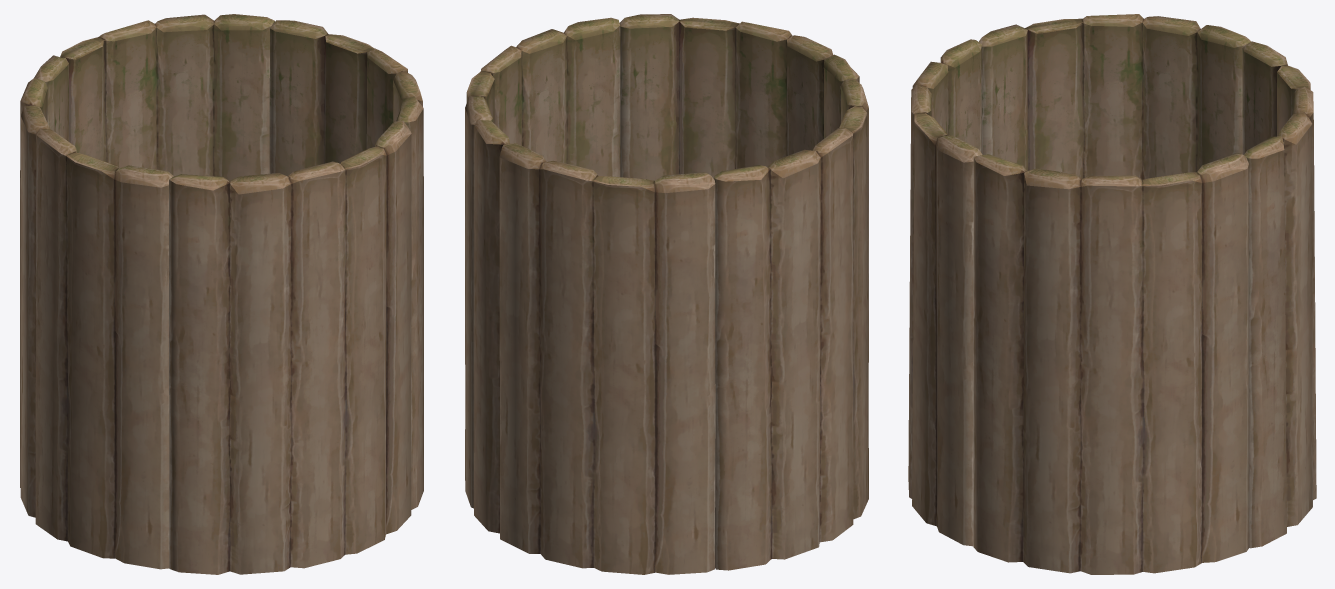
Rendered from Barrel_02.fbx.
The picture shows the model from 3 angles, left to right: view 1: azimuth 30°, elevation 25°; view 2: azimuth 150°, elevation 25°; view 3: azimuth 270°, elevation 25°; orthographic projection.
Visible parts, largest first — view 1: Barrel_02; view 2: Barrel_02; view 3: Barrel_02.
Boxes of the visible parts, box(x1,y1,x2,y2) form: Barrel_02: box(20, 14, 423, 574); Barrel_02: box(465, 14, 868, 574); Barrel_02: box(908, 14, 1316, 574).
Bounding box in the file's own units: 1.2 × 1.25 × 1.2.
